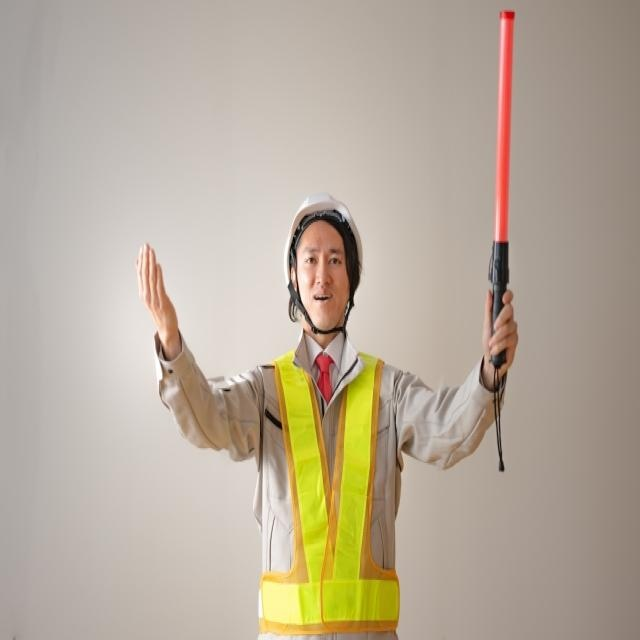Con_Casco: (285, 190, 364, 330)
Con_Chaleco: (261, 346, 403, 634)
